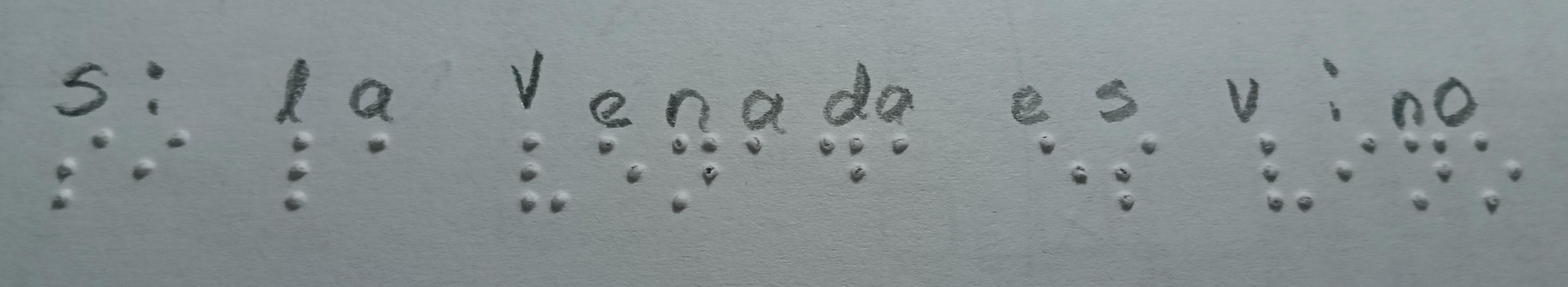a: (342, 121, 409, 175), (730, 127, 782, 184), (870, 125, 928, 165)
d: (807, 129, 872, 196)
e: (1022, 127, 1093, 196), (584, 127, 648, 192)
i: (119, 121, 206, 190), (1314, 127, 1389, 186)
l: (257, 125, 332, 226)
n: (1391, 127, 1460, 217), (659, 130, 724, 219)
o: (1460, 129, 1530, 221)
s: (1091, 119, 1172, 223), (37, 121, 117, 224)
v: (492, 111, 575, 223), (1247, 132, 1316, 221)
